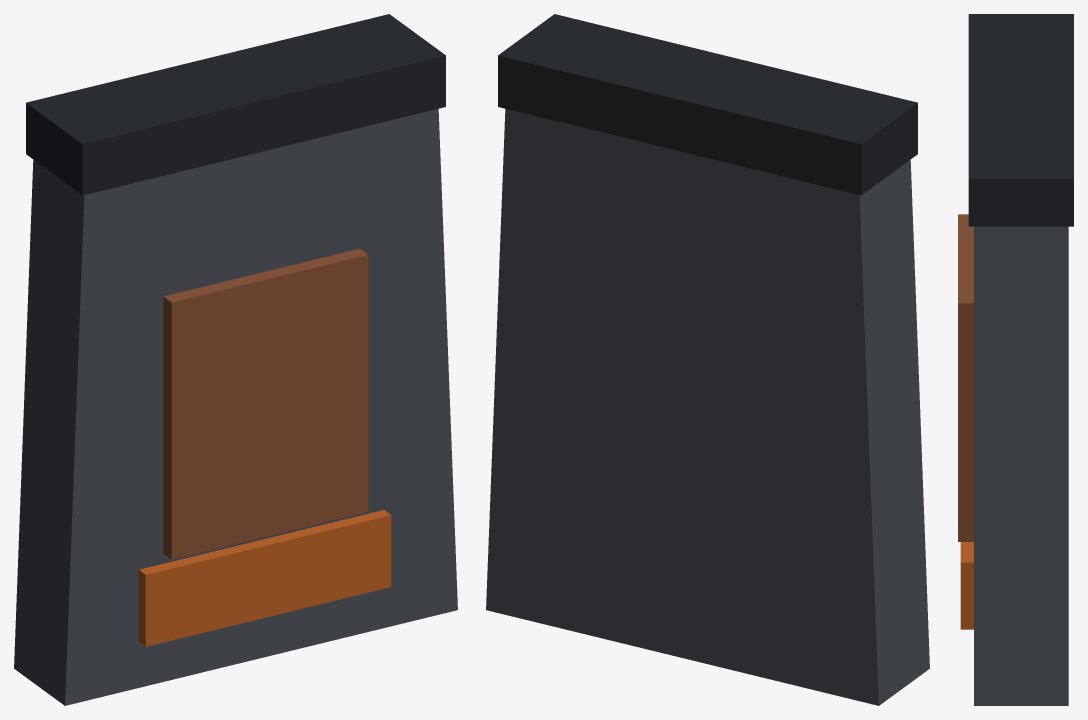
The model's file is andris.lod.glb.
3 renders of one model, left to right at view 1: azimuth 30°, elevation 25°; view 2: azimuth 150°, elevation 25°; view 3: azimuth 270°, elevation 25°, orthographic. The views are drawn at different scales.
Parts seen in each view (by area): view 1: m; view 2: m; view 3: m.
Part boxes in pixels (x1,y1,x2,y2): m: [14, 14, 457, 705]; m: [486, 14, 929, 705]; m: [958, 14, 1073, 705].
Bounding box in the file's own units: 0.0734 × 0.1 × 0.0202.
